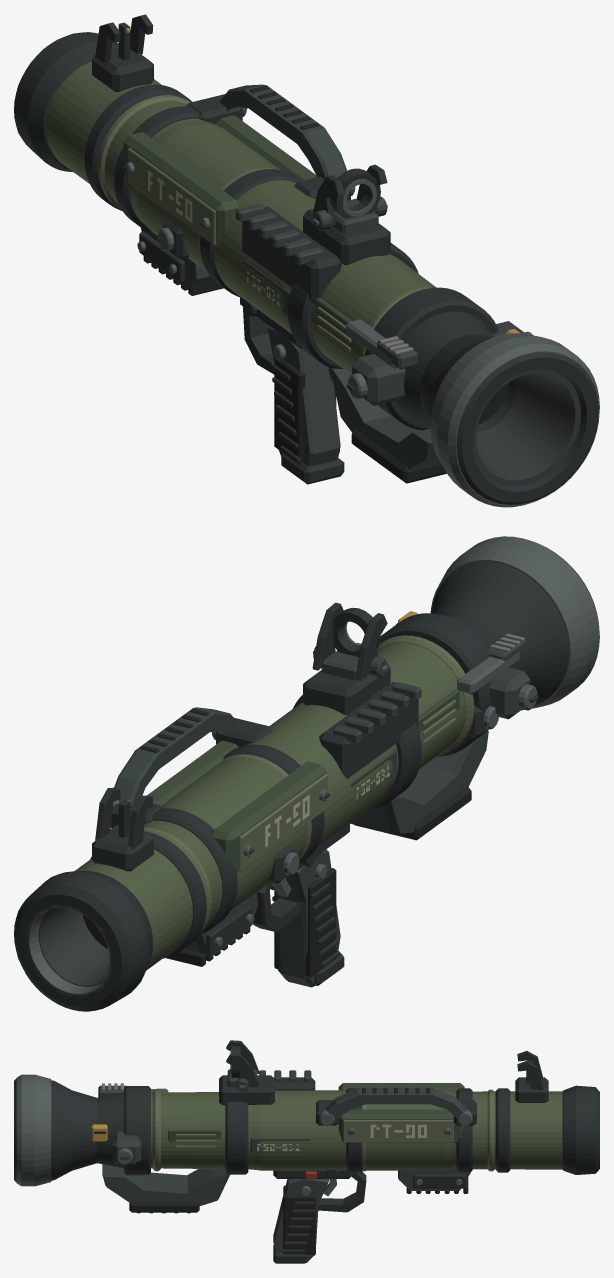
3 renders of one model, top to bottom at view 1: azimuth 30°, elevation 25°; view 2: azimuth 150°, elevation 25°; view 3: azimuth 270°, elevation 25°, orthographic. The views are drawn at different scales.
Parts seen in each view (by area): view 1: Tube, RearHousing, Grips, ExternalFittings, IronSights; view 2: Tube, RearHousing, ExternalFittings, Grips, IronSights; view 3: Tube, RearHousing, Grips, ExternalFittings, IronSights.
Boxes of the visible parts, box(x1,y1,x2,y2) form: Tube: box(14, 32, 498, 430); RearHousing: box(330, 311, 599, 507); Grips: box(137, 227, 344, 484); ExternalFittings: box(158, 84, 381, 405); IronSights: box(92, 14, 390, 264); Tube: box(14, 613, 490, 1011); RearHousing: box(350, 536, 599, 840); ExternalFittings: box(111, 682, 498, 883); Grips: box(166, 824, 349, 987); IronSights: box(92, 602, 390, 871); Tube: box(124, 1083, 599, 1175); RearHousing: box(14, 1074, 229, 1213); Grips: box(273, 1169, 471, 1263); ExternalFittings: box(259, 1070, 476, 1126); IronSights: box(219, 1040, 548, 1105).
Bounding box in the file's own units: 0.218 × 0.3721 × 0.9312.
